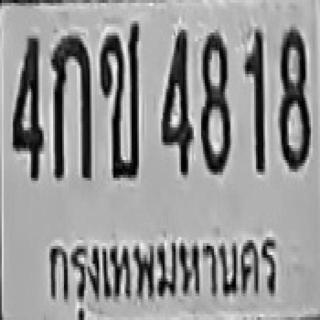A01: (49, 33, 90, 178)
A10: (99, 21, 139, 178)
N01: (243, 27, 263, 172)
N04: (161, 27, 192, 175), (11, 33, 42, 178)
N08: (278, 27, 311, 169), (199, 28, 230, 173)
P04: (44, 221, 279, 320)
